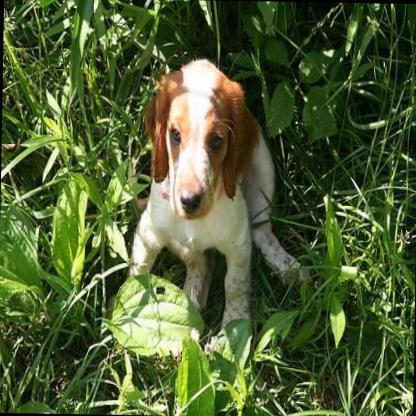Welsh_springer_spaniel: (125, 56, 312, 334)
